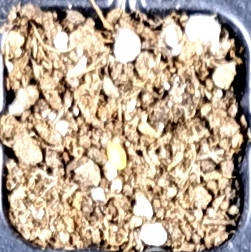pepper seed: (41, 54, 170, 225)
